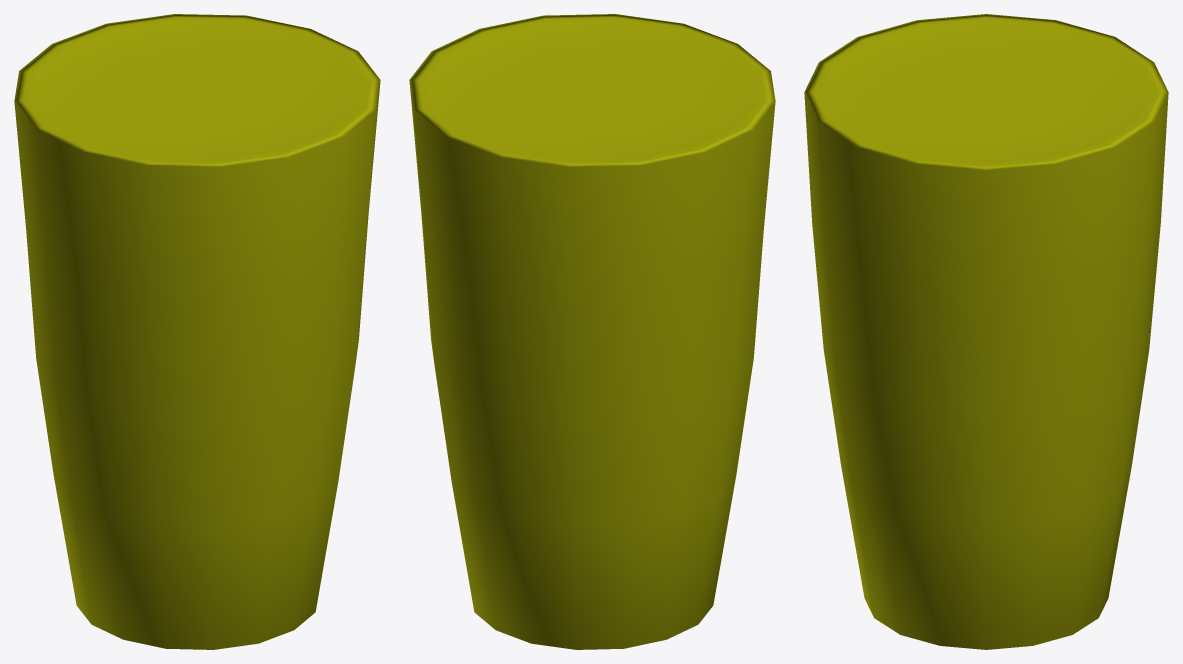
File: shakerLiquid.fbx
3 renders of one model, left to right at view 1: azimuth 30°, elevation 25°; view 2: azimuth 150°, elevation 25°; view 3: azimuth 270°, elevation 25°, orthographic.
Parts seen in each view (by area): view 1: shaker_body1; view 2: shaker_body1; view 3: shaker_body1.
Part boxes in pixels (<box>): shaker_body1: <box>14,14,380,649</box>; shaker_body1: <box>409,14,775,649</box>; shaker_body1: <box>804,14,1168,649</box>.
Size of the model in its own units: 8.22 by 12.4 by 8.09.
